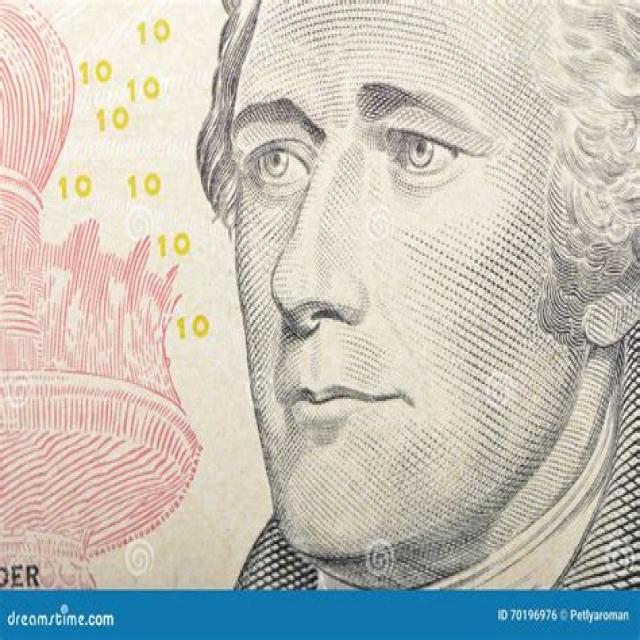Ten: (0, 0, 640, 590)
